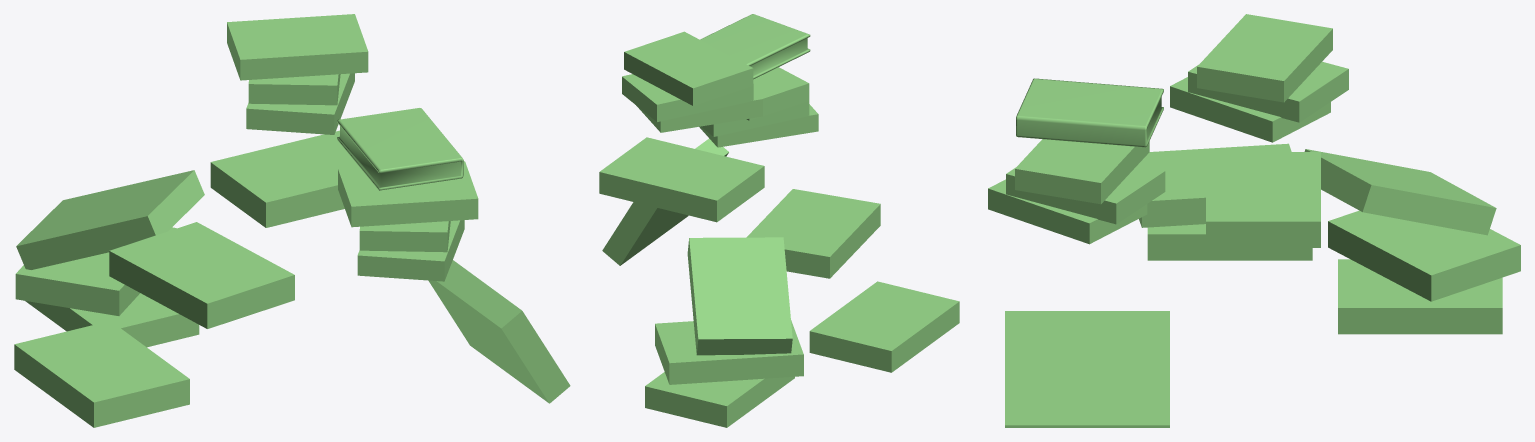
Rendered from Book_Pile_06B_Lod0.fbx.
The picture shows the model from 3 angles, left to right: view 1: azimuth 30°, elevation 25°; view 2: azimuth 150°, elevation 25°; view 3: azimuth 270°, elevation 25°; orthographic projection. The views are drawn at different scales.
Parts seen in each view (by area): view 1: Book_Pile_06B_Lod0; view 2: Book_Pile_06B_Lod0; view 3: Book_Pile_06B_Lod0.
Part boxes in pixels (box(x1,y1,x2,y2)): Book_Pile_06B_Lod0: box(14, 14, 570, 427); Book_Pile_06B_Lod0: box(599, 14, 959, 427); Book_Pile_06B_Lod0: box(988, 14, 1520, 427).
Size of the model in its own units: 93.33 by 67.34 by 102.
